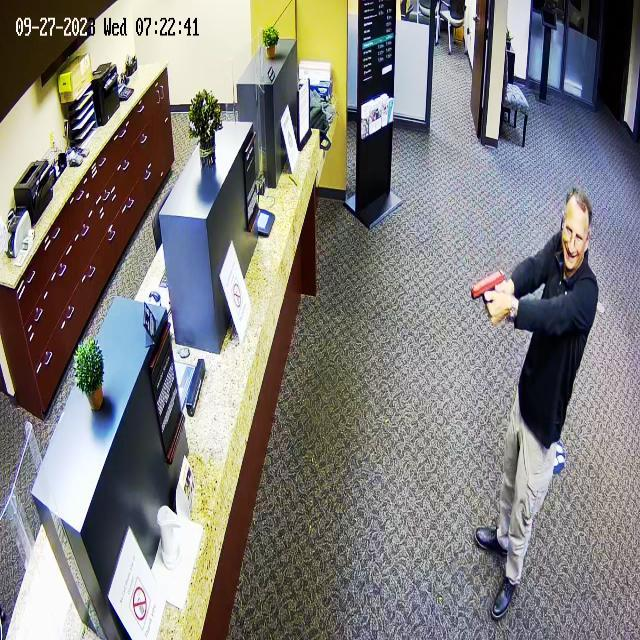Gun: (462, 257, 524, 334)
